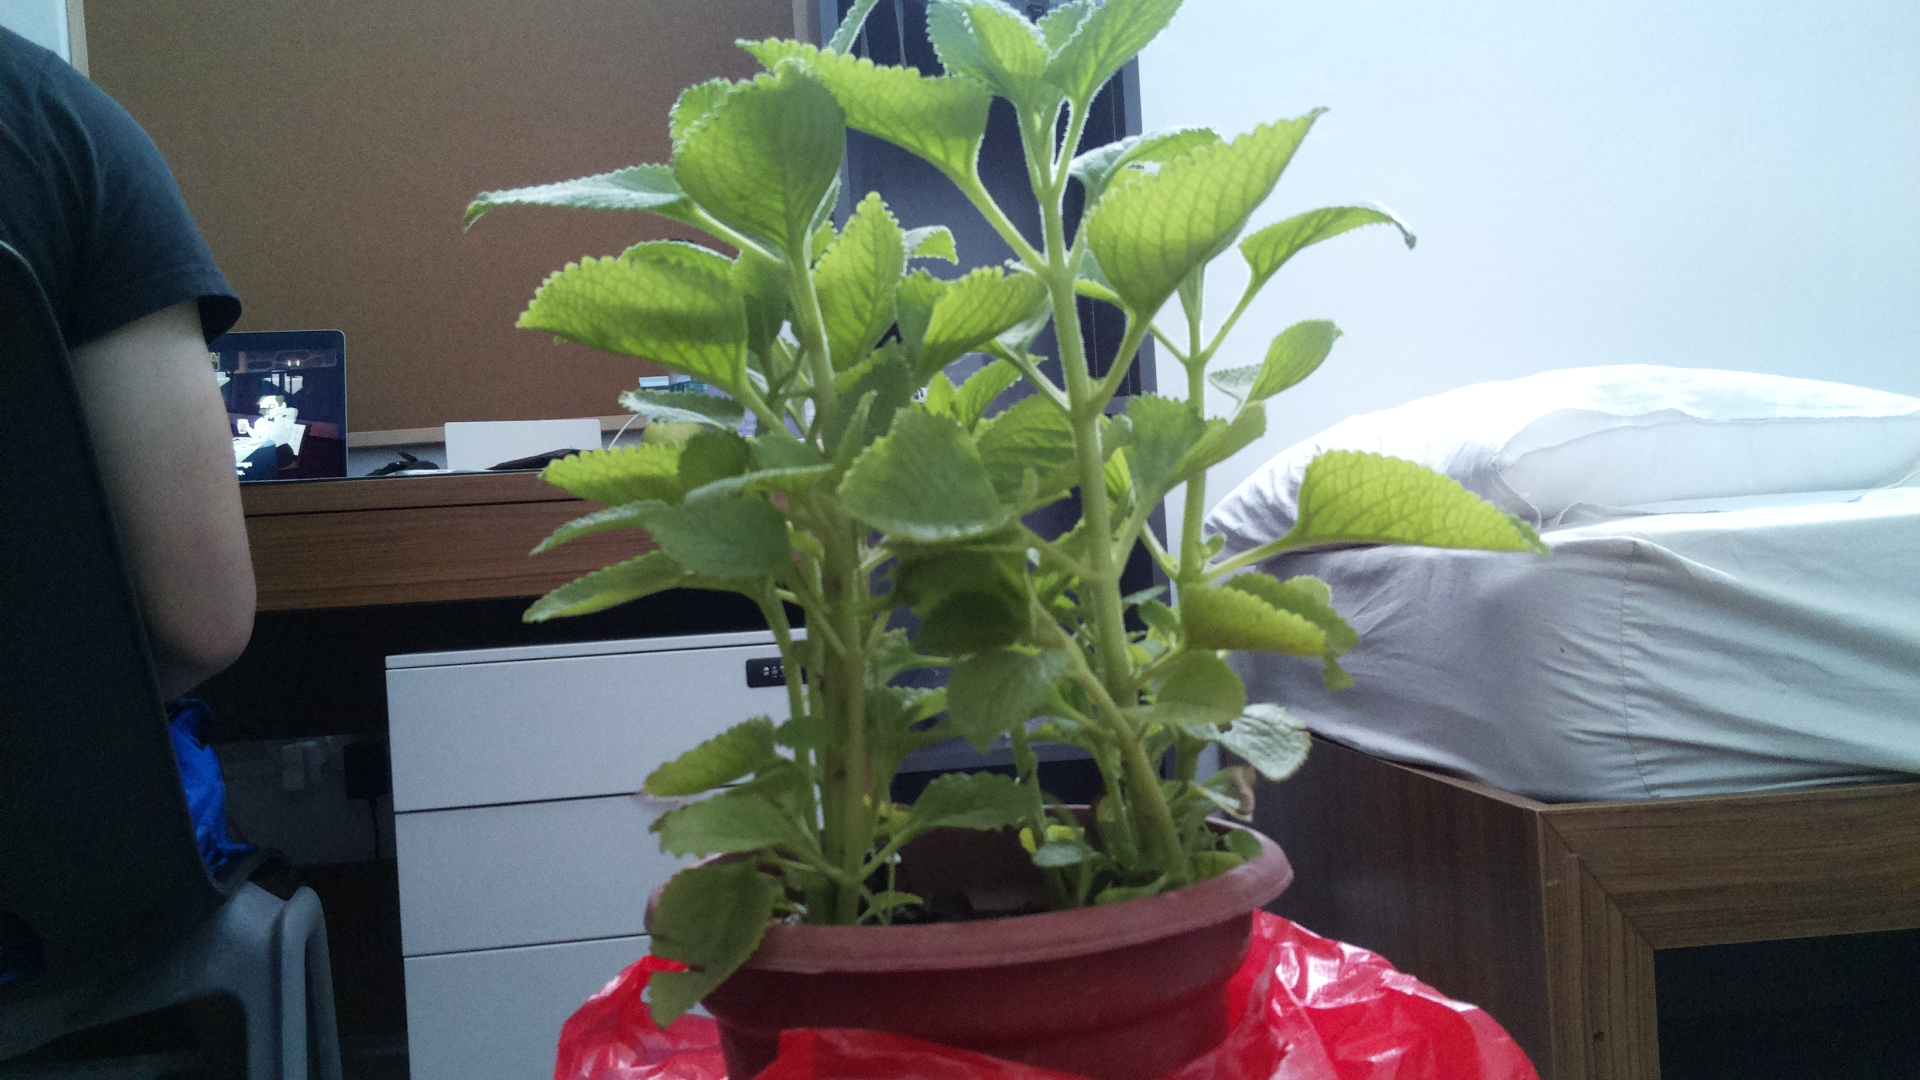leaf: (1085, 105, 1312, 342), (516, 258, 773, 401), (680, 51, 844, 273), (1265, 446, 1545, 568), (644, 849, 793, 1043), (796, 46, 992, 191), (884, 251, 1054, 390), (472, 146, 680, 253), (852, 417, 1011, 550), (1120, 393, 1280, 514), (541, 415, 752, 501), (1167, 568, 1364, 658), (509, 541, 712, 626), (943, 640, 1076, 753), (628, 786, 818, 855)
